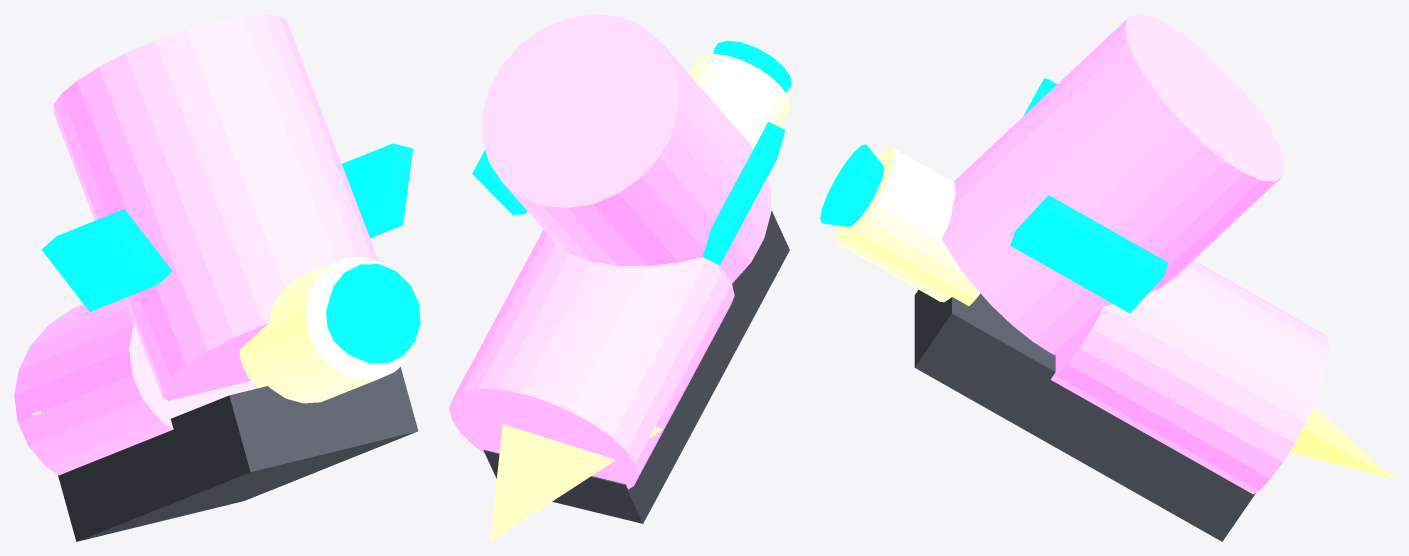
File: powerup-kick.glb
3 views of the same model, side by side, from view 1: azimuth 30°, elevation 25°; view 2: azimuth 150°, elevation 25°; view 3: azimuth 270°, elevation 25° (orthographic). The views are drawn at different scales.
Parts seen in each view (by area): view 1: PowerupKick; view 2: PowerupKick; view 3: PowerupKick.
Boxes of the visible parts, bbox=[...] form: PowerupKick: bbox=[14, 14, 420, 541]; PowerupKick: bbox=[449, 14, 791, 541]; PowerupKick: bbox=[820, 14, 1394, 541].
Bounding box in the file's own units: 0.6583 × 1.12 × 1.22.
